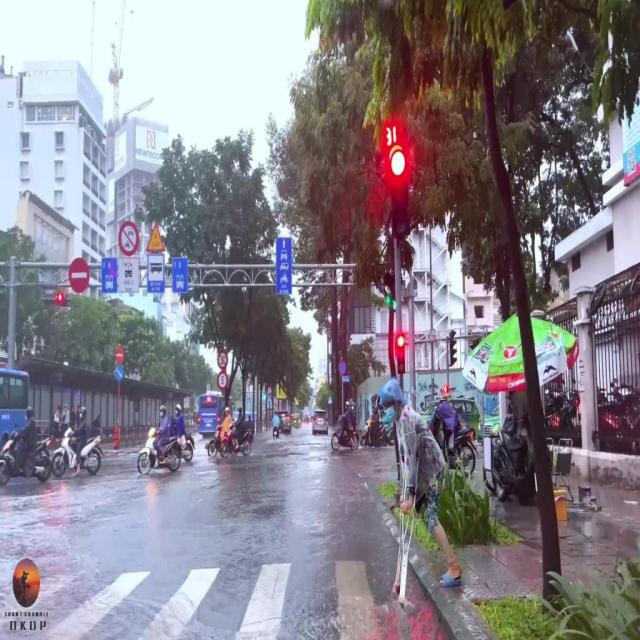cam_do_xe: (338, 360, 347, 375)
cam_xe_2_banh_va_xe_3_banh_co_dong_co: (217, 349, 228, 368)
cam_xe_di_nguoc_chieu: (68, 257, 89, 292), (115, 347, 124, 362)
di_cham: (146, 222, 165, 252)
huong_phai_di_vuot_chuong_ngai_vat_phai: (114, 366, 122, 381)
khac: (276, 237, 292, 294), (118, 221, 139, 257), (119, 258, 139, 292), (148, 254, 165, 292), (173, 258, 188, 292), (103, 259, 118, 293), (217, 370, 228, 390), (267, 387, 271, 395)
object: (328, 397, 332, 404)
